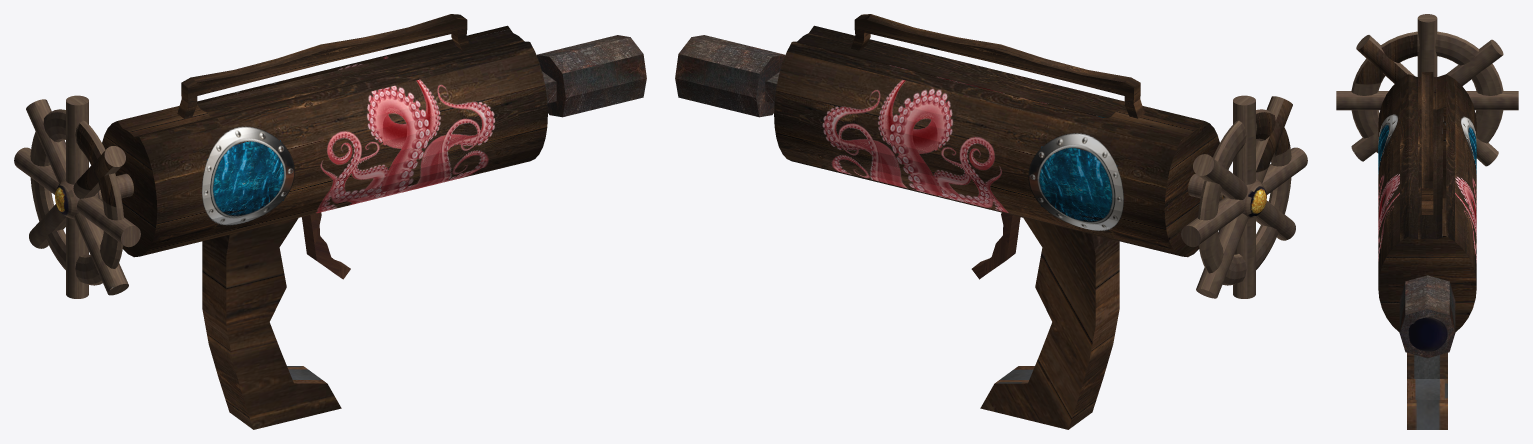
Rendered from alien_gun.fbx.
3 views of the same model, side by side, from view 1: azimuth 30°, elevation 25°; view 2: azimuth 150°, elevation 25°; view 3: azimuth 270°, elevation 25° (orthographic). The views are drawn at different scales.
Visible parts, largest first — view 1: Weapon; view 2: Weapon; view 3: Weapon.
Boxes of the visible parts, x1,y1,x2,y2 form: Weapon: (14, 14, 646, 429); Weapon: (675, 14, 1307, 429); Weapon: (1336, 14, 1518, 429).
Bounding box in the file's own units: 279 × 861 × 519.
1 material, 1 textured.
